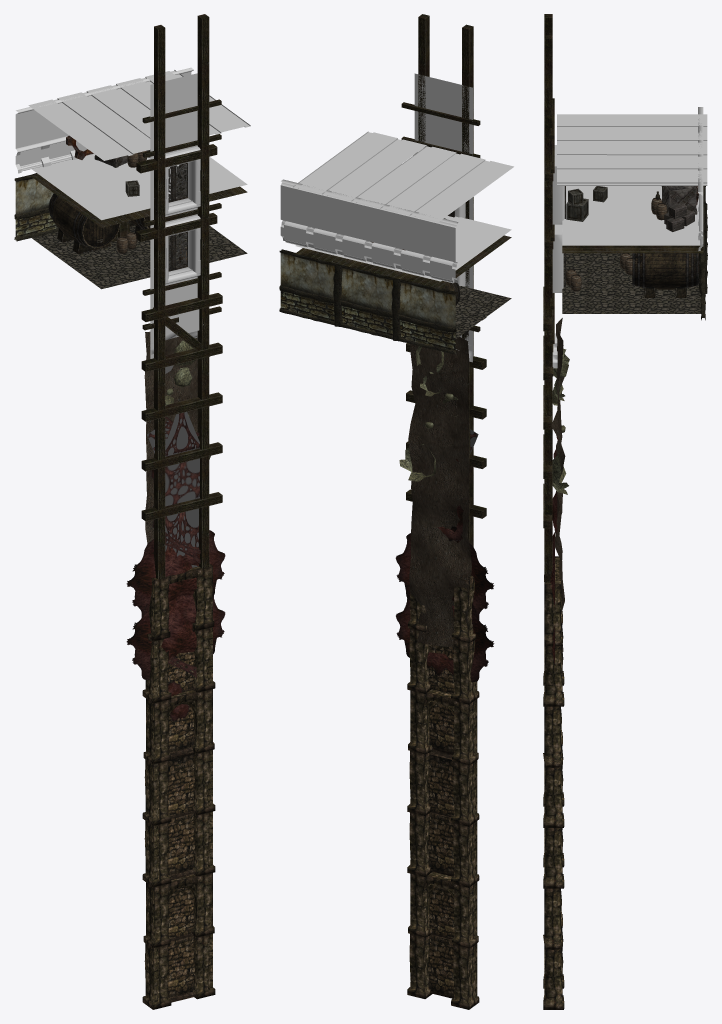
Rendered from elevator_wall01.dae.
3 views of the same model, side by side, from view 1: azimuth 30°, elevation 25°; view 2: azimuth 150°, elevation 25°; view 3: azimuth 270°, elevation 25° (orthographic).
Parts seen in each view (by area): view 1: polySurface280, polySurface196, pPlane8, pPlane9, polySurface221, polySurface226, polySurface195, polySurface206, polySurface298, polySurface297, polySurface207, polySurface299 (+24 smaller); view 2: pPlane1, polySurface196, polySurface195, polySurface280, polySurface221, polySurface297, polySurface298, pPlane10, pPlane11, polySurface226, pPlane2, pPlane8 (+20 smaller); view 3: polySurface196, pPlane8, polySurface280, pPlane9, polySurface1, pPlane1, pPlane12, polySurface299, polySurface291, polySurface289, polySurface294, polySurface297 (+9 smaller).
Boxes of the visible parts, x1=… form: polySurface280: x1=136, y1=14, x2=222, y2=579; polySurface196: x1=28, y1=70, x2=250, y2=160; pPlane8: x1=32, y1=154, x2=247, y2=220; pPlane9: x1=32, y1=225, x2=247, y2=289; polySurface221: x1=154, y1=750, x2=212, y2=880; polySurface226: x1=154, y1=885, x2=212, y2=1003; polySurface195: x1=15, y1=67, x2=193, y2=173; polySurface206: x1=126, y1=590, x2=225, y2=679; polySurface298: x1=143, y1=689, x2=214, y2=764; polySurface297: x1=143, y1=873, x2=214, y2=948; polySurface207: x1=126, y1=530, x2=225, y2=617; polySurface299: x1=147, y1=563, x2=214, y2=641; pPlane1: x1=408, y1=337, x2=471, y2=647; polySurface196: x1=293, y1=131, x2=513, y2=221; polySurface195: x1=280, y1=179, x2=458, y2=283; polySurface280: x1=401, y1=14, x2=486, y2=575; polySurface221: x1=428, y1=750, x2=477, y2=876; polySurface297: x1=408, y1=872, x2=478, y2=948; polySurface298: x1=408, y1=689, x2=478, y2=765; pPlane10: x1=397, y1=278, x2=455, y2=353; pPlane11: x1=280, y1=250, x2=338, y2=321; polySurface226: x1=428, y1=887, x2=477, y2=998; pPlane2: x1=339, y1=264, x2=396, y2=335; pPlane8: x1=295, y1=216, x2=511, y2=281; polySurface196: x1=557, y1=114, x2=707, y2=185; pPlane8: x1=562, y1=186, x2=700, y2=245; polySurface280: x1=543, y1=14, x2=554, y2=582; pPlane9: x1=562, y1=253, x2=700, y2=313; polySurface1: x1=632, y1=253, x2=698, y2=297; pPlane1: x1=551, y1=318, x2=565, y2=652; pPlane12: x1=562, y1=245, x2=703, y2=253; polySurface299: x1=544, y1=556, x2=562, y2=646; polySurface291: x1=543, y1=828, x2=564, y2=888; polySurface289: x1=543, y1=949, x2=564, y2=1009; polySurface294: x1=543, y1=767, x2=564, y2=827; polySurface297: x1=543, y1=888, x2=562, y2=949.
Size of the model in its own units: 12 by 63.88 by 9.86.
